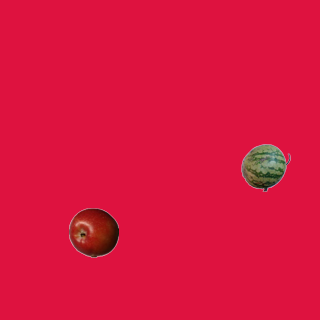Apple Braeburn: (68, 207, 118, 257)
Watermelon: (240, 142, 290, 192)
